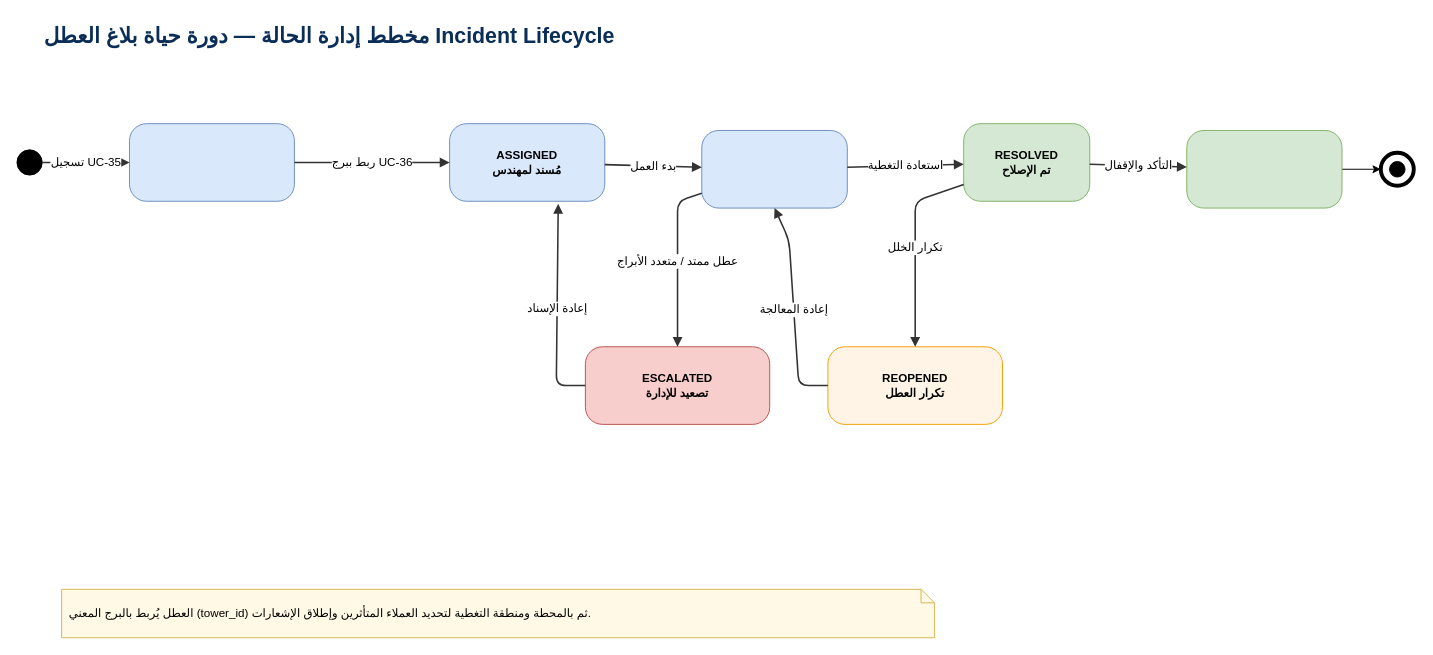
The diagram is 1433 pixels wide and 655 high, and some of its shapes have lost their labels. Here are the shapes that lost their labels. From the top down, the centre of each, then its label:
(x=211, y=162): OPEN بلاغ جديد
(x=774, y=168): IN_PROGRESS قيد الإصلاح
(x=1264, y=168): CLOSED مغلق
